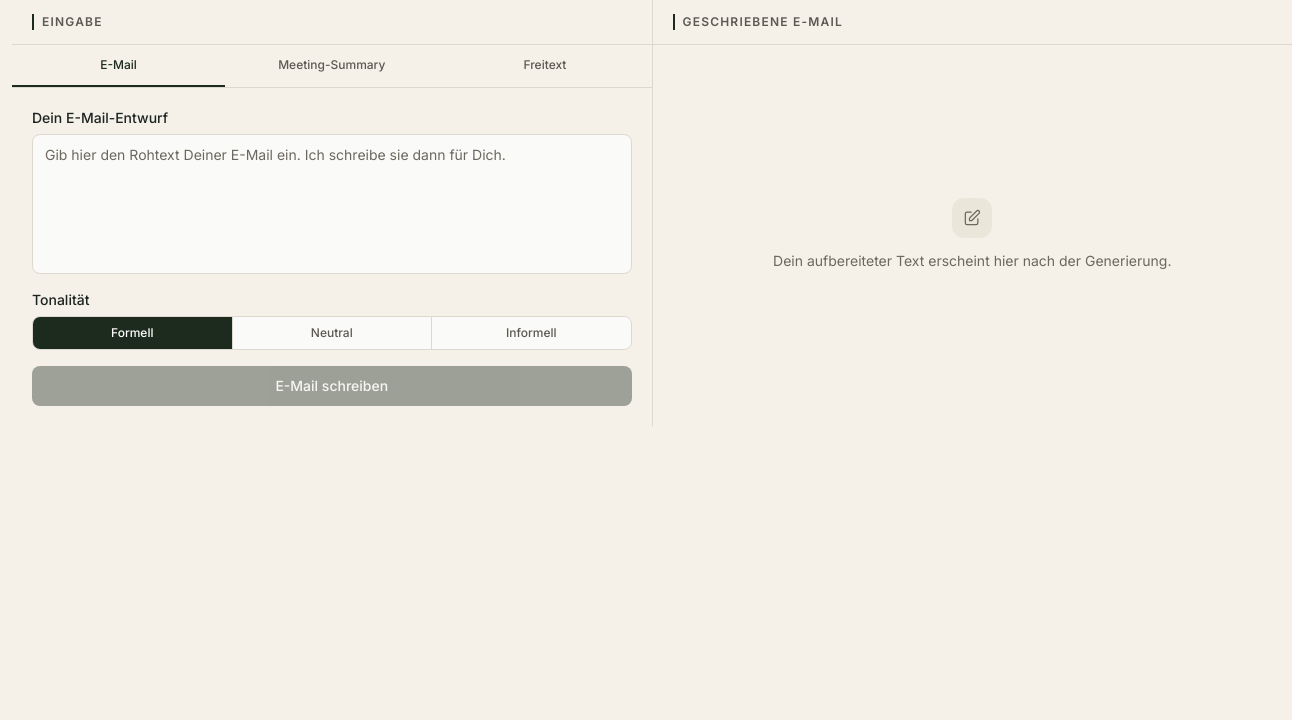
TextPolisherPage — Submit › zeigt den polierten Text im Output
The width and height of the screenshot is (1292, 720).
Step 1. Type "rohtext" into the text box labelled "Dein E-Mail-Entwurf" → (332, 204), box top-left (32, 134), bottom-right (632, 274)
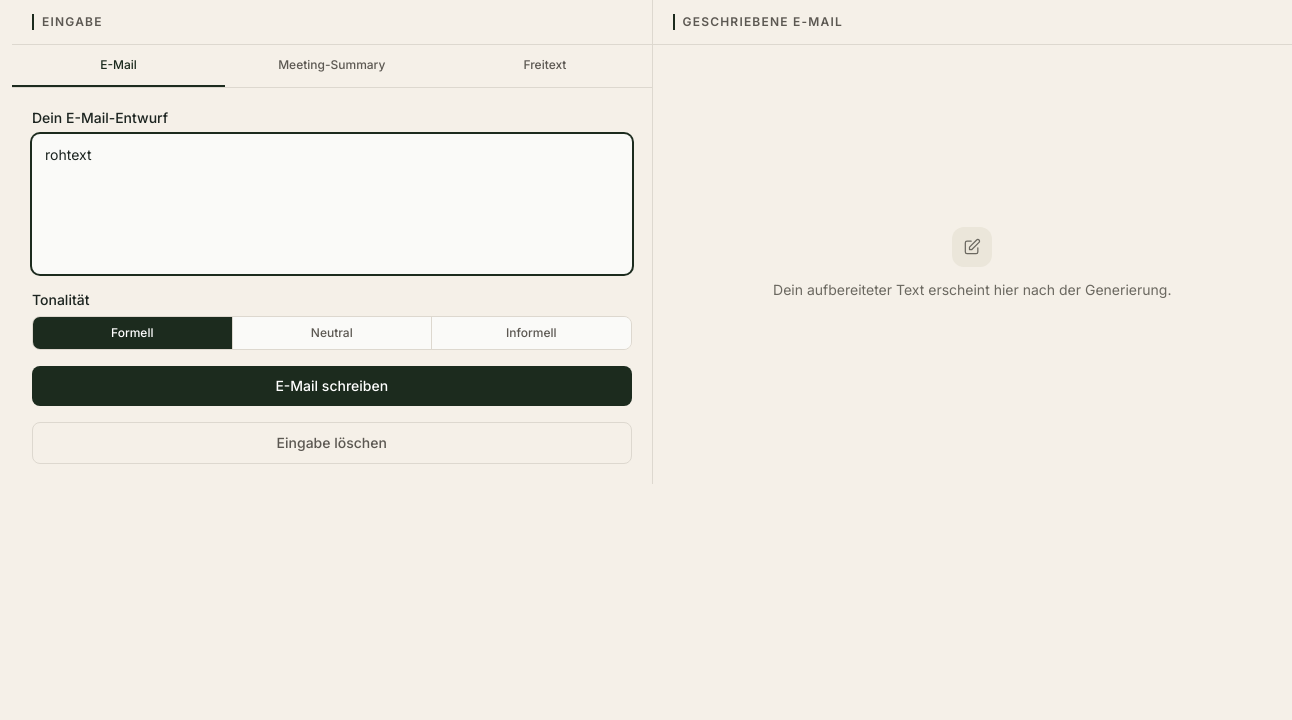
Step 2. Click the button "E-Mail schreiben" → (332, 386), box top-left (32, 366), bottom-right (632, 406)
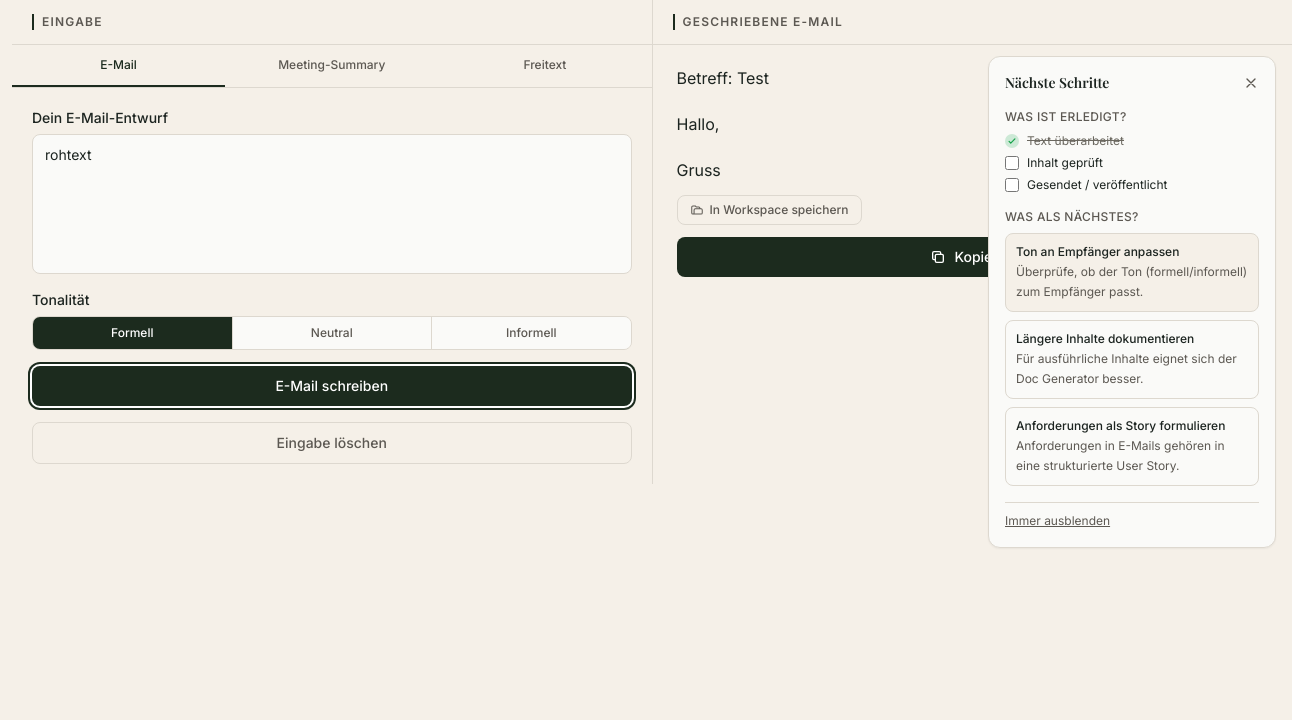
expect the text "Betreff: Test" is shown: met, box top-left (676, 68), bottom-right (769, 88)
